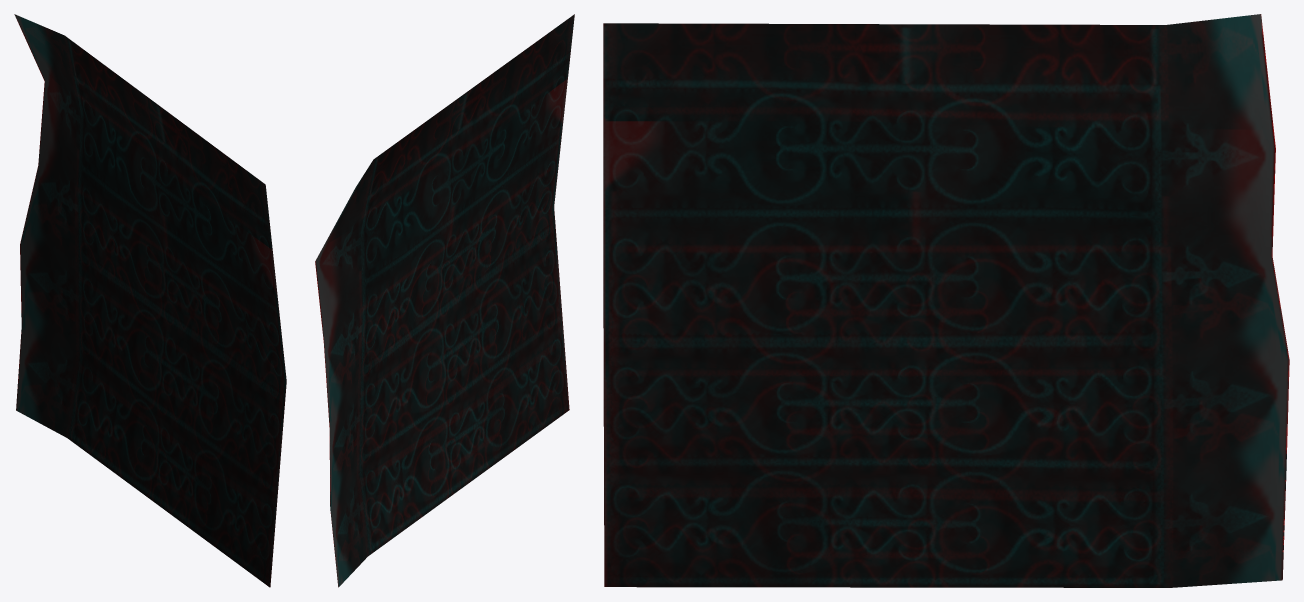
File: Fence.fbx
3 renders of one model, left to right at view 1: azimuth 30°, elevation 25°; view 2: azimuth 150°, elevation 25°; view 3: azimuth 270°, elevation 25°, orthographic. The views are drawn at different scales.
Parts seen in each view (by area): view 1: GraveFence; view 2: GraveFence; view 3: GraveFence.
Boxes of the visible parts, <box> form: GraveFence: <box>14,14,286,587</box>; GraveFence: <box>315,14,574,587</box>; GraveFence: <box>603,14,1289,587</box>.
Size of the model in its own units: 0.5518 by 5.98 by 6.63.
